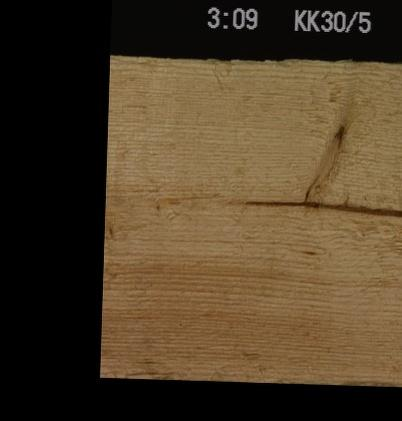small_knot: (103, 220, 122, 237)
